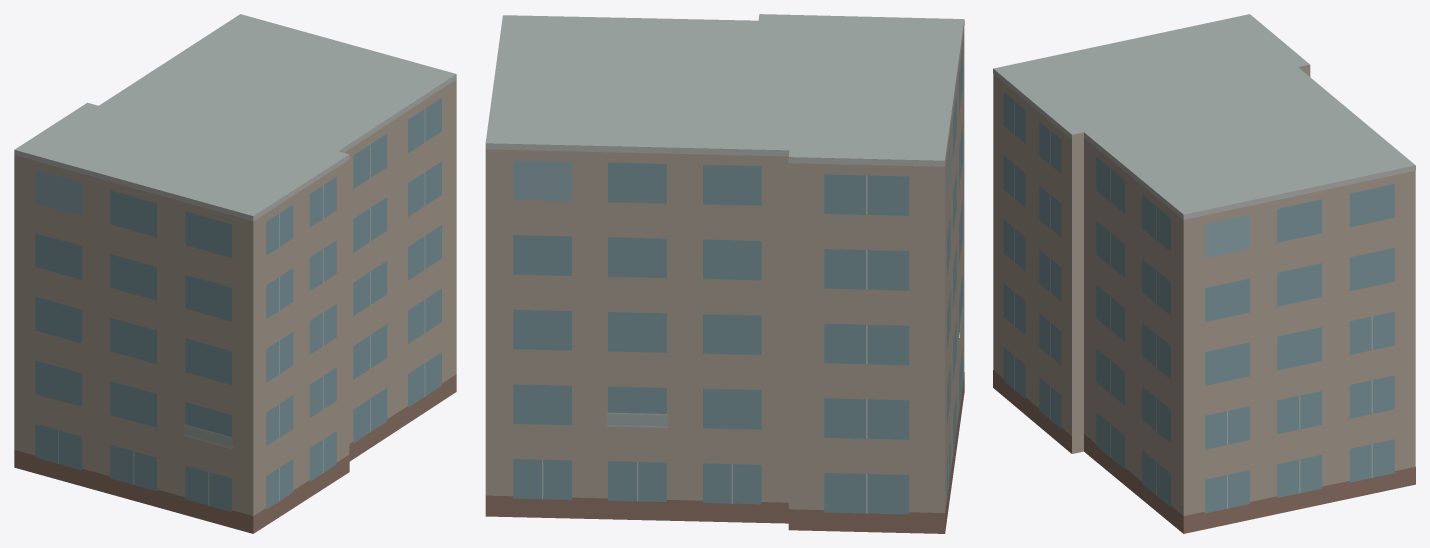
Rendered from survey-upis-32708996.glb.
3 renders of one model, left to right at view 1: azimuth 30°, elevation 25°; view 2: azimuth 150°, elevation 25°; view 3: azimuth 270°, elevation 25°, orthographic. The views are drawn at different scales.
Parts seen in each view (by area): view 1: survey-upis-32708996.tmp; view 2: survey-upis-32708996.tmp; view 3: survey-upis-32708996.tmp.
Boxes of the visible parts, x1,y1,x2,y2 form: survey-upis-32708996.tmp: (14,14,456,533); survey-upis-32708996.tmp: (485,14,964,533); survey-upis-32708996.tmp: (993,14,1415,533).
Bounding box in the file's own units: 19.96 × 14.8 × 17.77.
